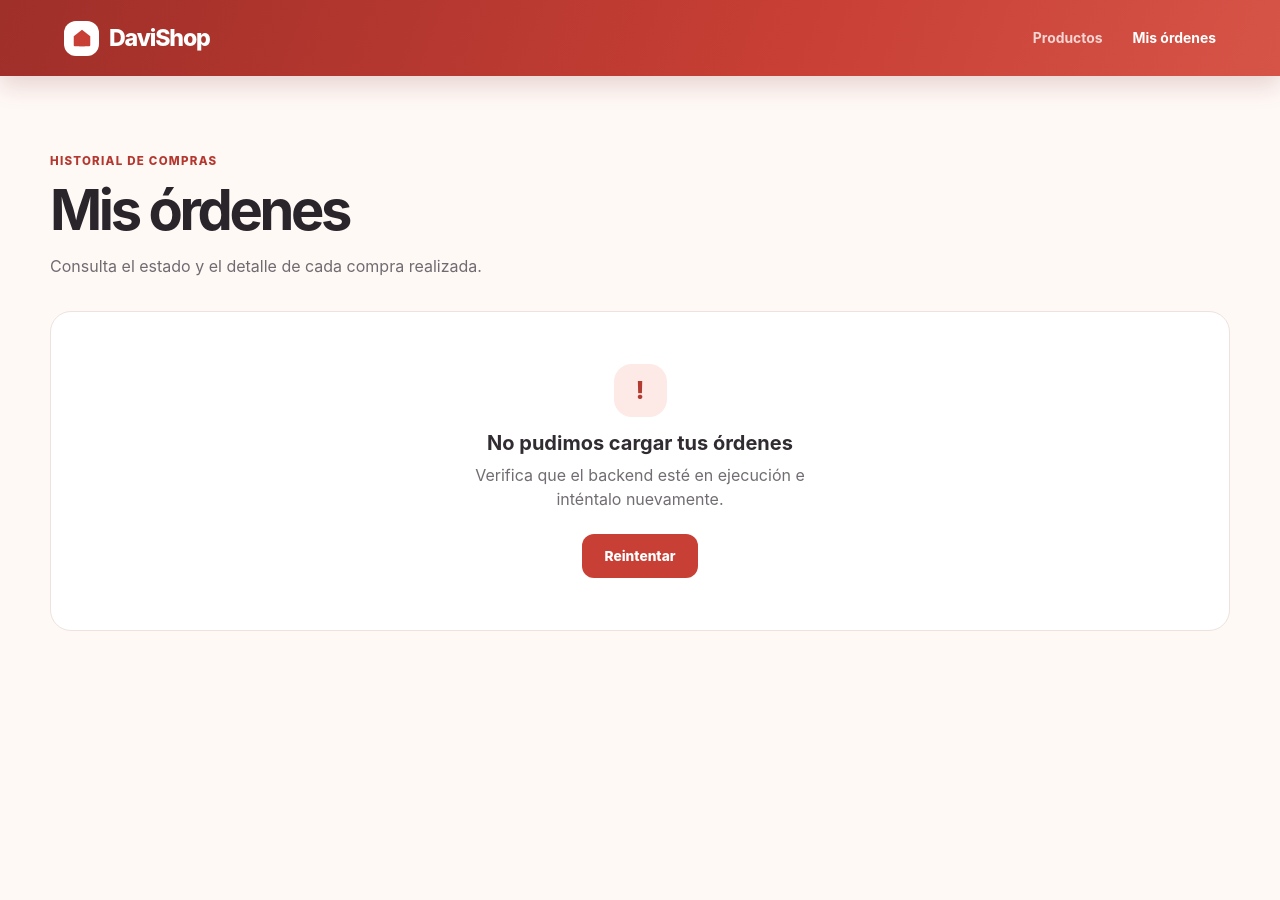
OrdersPageComponent › shows an error state and retries the request
Click the button "Reintentar": (640, 556) [582, 534, 698, 578]
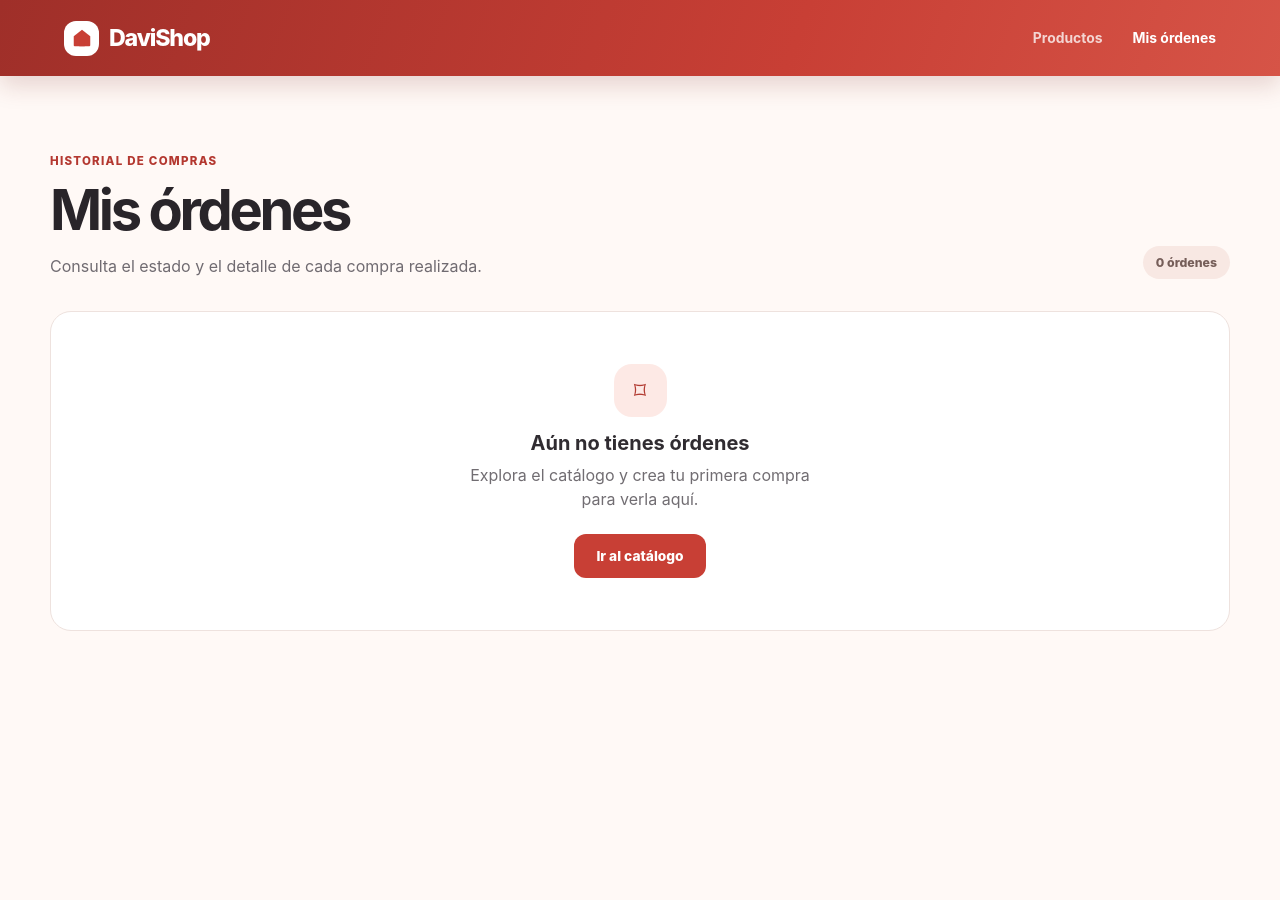
Expected: the text "Aún no tienes órdenes" is shown, [530, 430, 750, 454]
